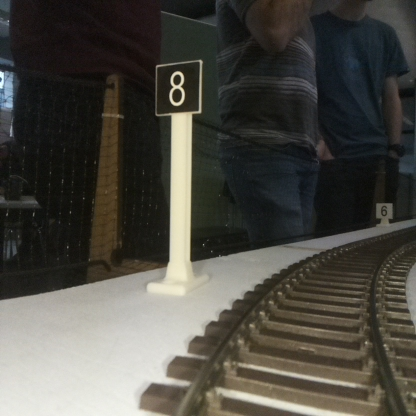black-info-8: (157, 62, 200, 291)
white-stop-6: (376, 202, 392, 227)
